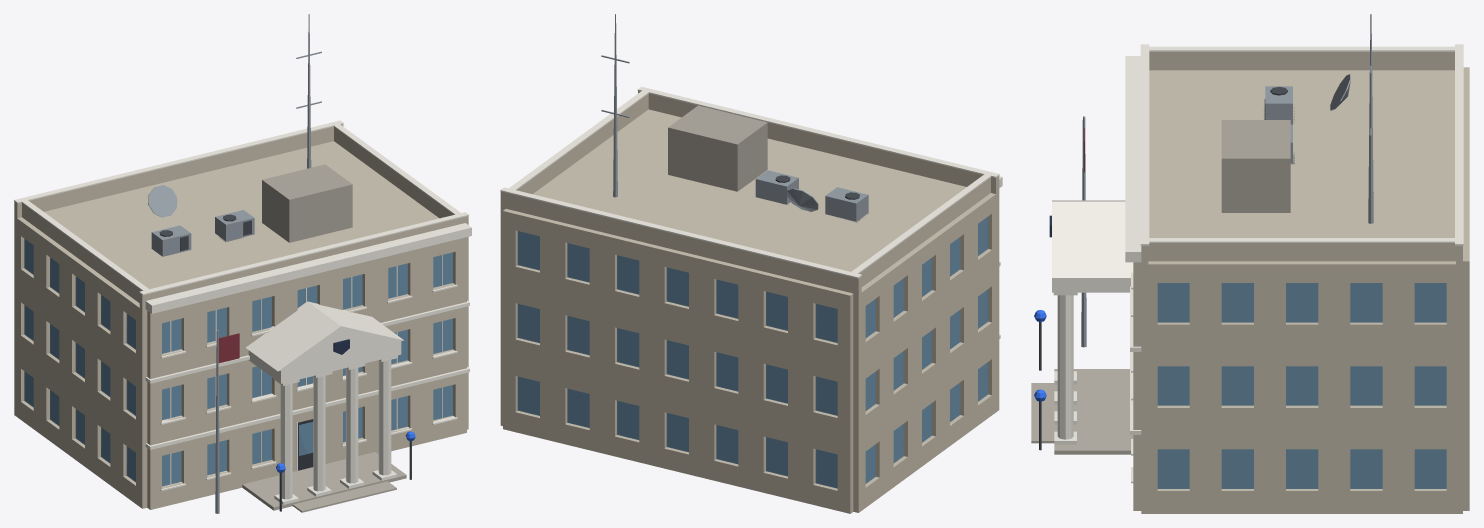
Rendered from BUILDING_14.obj.
3 renders of one model, left to right at view 1: azimuth 30°, elevation 25°; view 2: azimuth 150°, elevation 25°; view 3: azimuth 270°, elevation 25°, orthographic. The views are drawn at different scales.
Visible parts, largest first — view 1: walls_floor02, walls_core, walls_floor01, walls_floor00, roof, portico, belt_course, windows_floor02, pediment, roof_plant, windows_floor00, windows_floor01 (+4 smaller); view 2: walls_floor02, walls_floor01, walls_core, walls_floor00, roof, windows_floor01, windows_floor02, windows_floor00, roof_plant, roof_equipment, antenna; view 3: walls_core, walls_floor02, walls_floor01, roof, walls_floor00, portico, windows_floor01, windows_floor02, windows_floor00, roof_plant, pediment, belt_course (+4 smaller).
Part boxes in pixels (x1,y1,x2,y2): walls_floor02: (14, 216, 468, 392); walls_core: (44, 141, 439, 288); walls_floor01: (14, 298, 468, 458); walls_floor00: (14, 364, 468, 509); roof: (14, 120, 468, 309); portico: (242, 341, 406, 512); belt_course: (145, 223, 471, 449); windows_floor02: (24, 239, 457, 358); pediment: (245, 301, 403, 371); roof_plant: (262, 164, 352, 242); windows_floor00: (24, 371, 457, 490); windows_floor01: (24, 305, 457, 424); walls_floor02: (500, 192, 999, 384); walls_floor01: (500, 281, 999, 457); walls_core: (533, 109, 966, 271); walls_floor00: (500, 354, 999, 513); roof: (500, 86, 999, 294); windows_floor01: (517, 289, 988, 415); windows_floor02: (517, 216, 988, 342); windows_floor00: (517, 362, 988, 488); roof_plant: (668, 105, 767, 191); roof_equipment: (755, 170, 869, 222); antenna: (601, 14, 818, 211); walls_core: (1149, 70, 1454, 237); walls_floor02: (1133, 67, 1469, 366); walls_floor01: (1133, 363, 1469, 449); roof: (1140, 44, 1463, 264); walls_floor00: (1133, 446, 1469, 513); portico: (1031, 278, 1133, 454); windows_floor01: (1131, 356, 1446, 405); windows_floor02: (1131, 272, 1446, 322); windows_floor00: (1131, 439, 1446, 488); roof_plant: (1221, 120, 1290, 212); pediment: (1052, 200, 1133, 277); belt_course: (1125, 56, 1141, 434).
Bounding box in the file's own units: 20.6 × 22.02 × 19.1.
